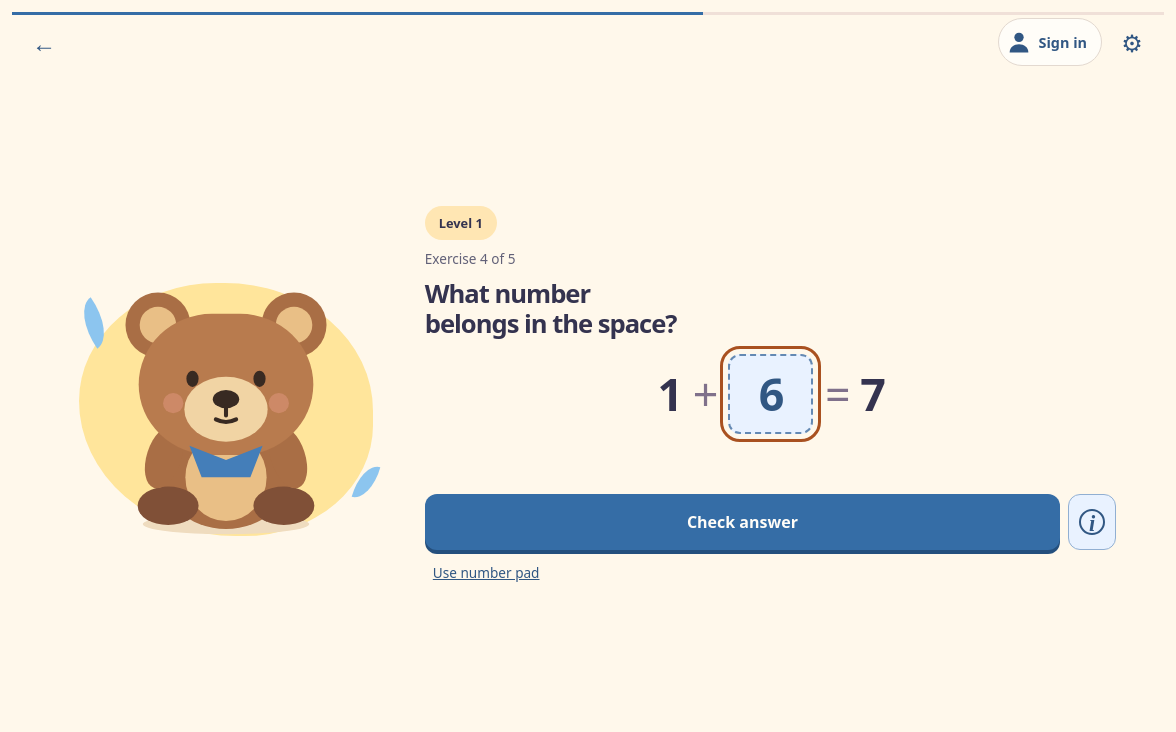
Test: maths: total and average for 5, 10 and 20 › 5 exercises
This screenshot has width=1176, height=732.
Earlier steps of the test are not shown.
Click the button "Check answer" at (742, 522), box [425,494,1060,550]
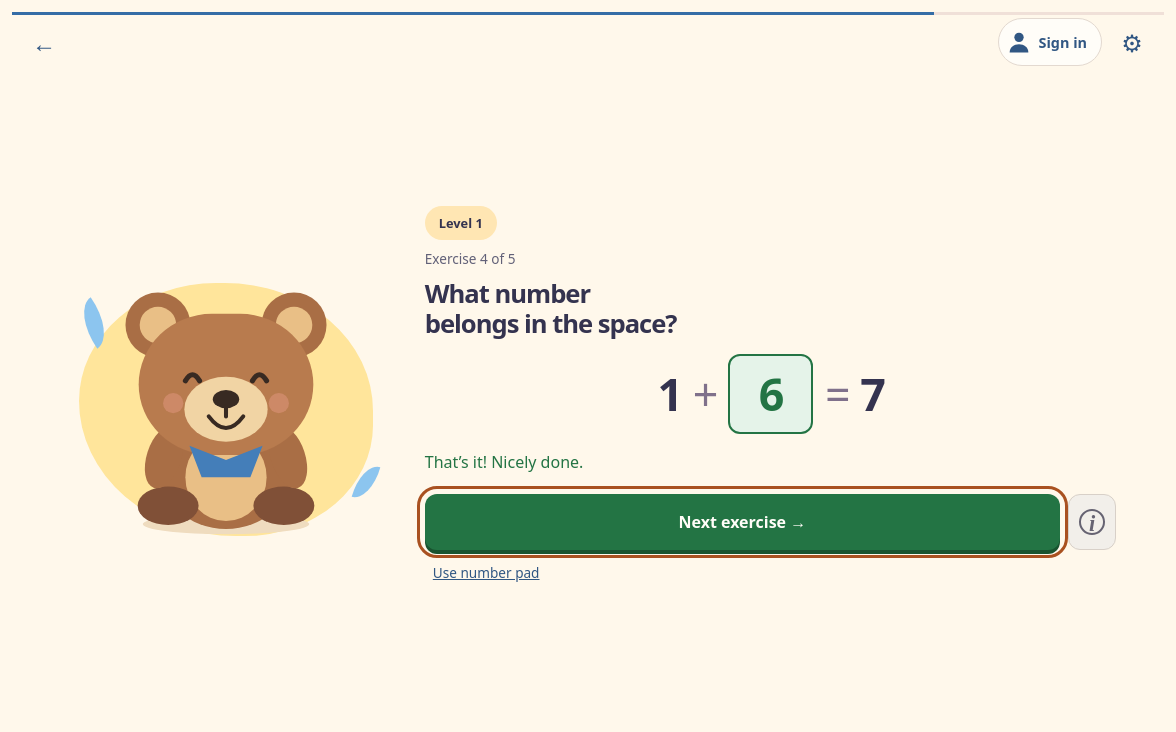
Click the button "Next exercise →" at (742, 522), box [425,494,1060,550]
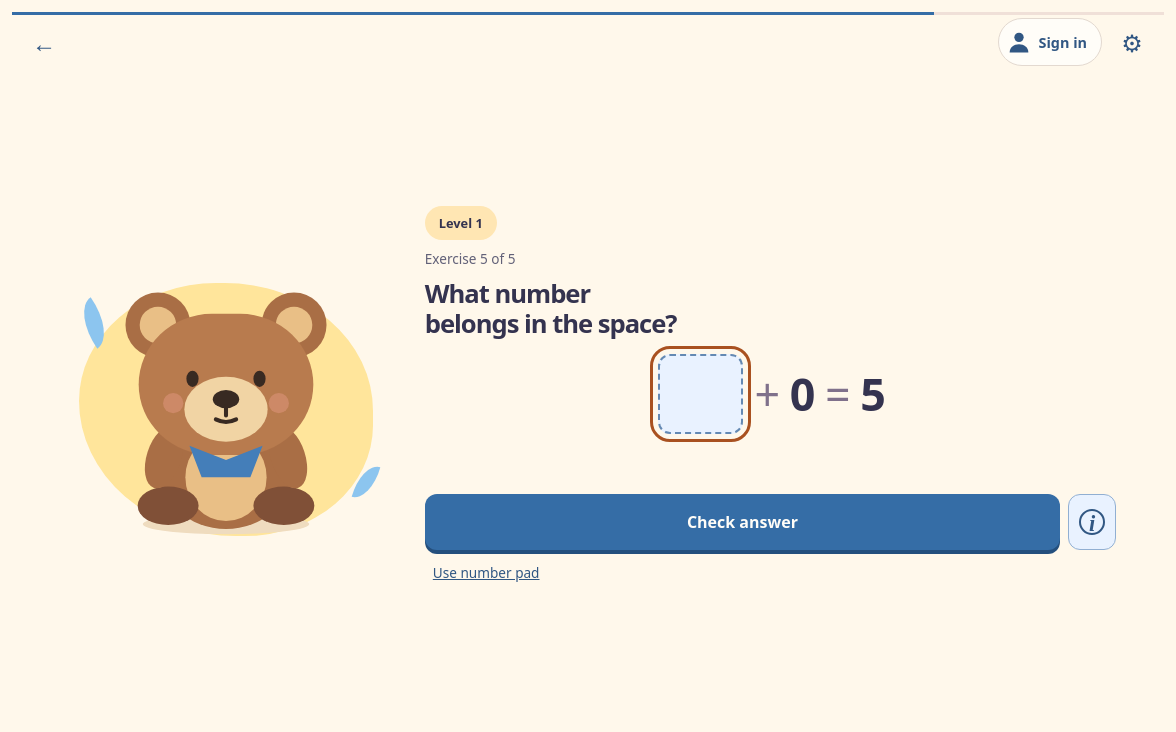
Type "5" into the field at (700, 394), box [658,354,743,434]
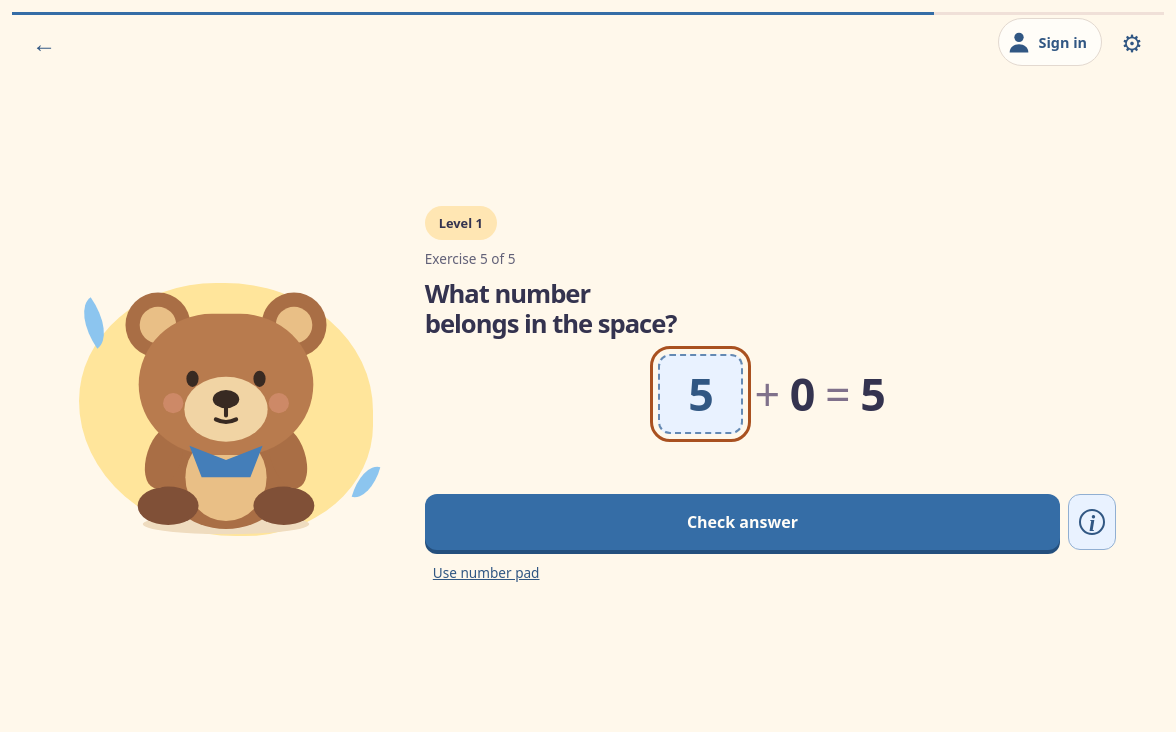
Click the button "Check answer" at (742, 522), box [425,494,1060,550]
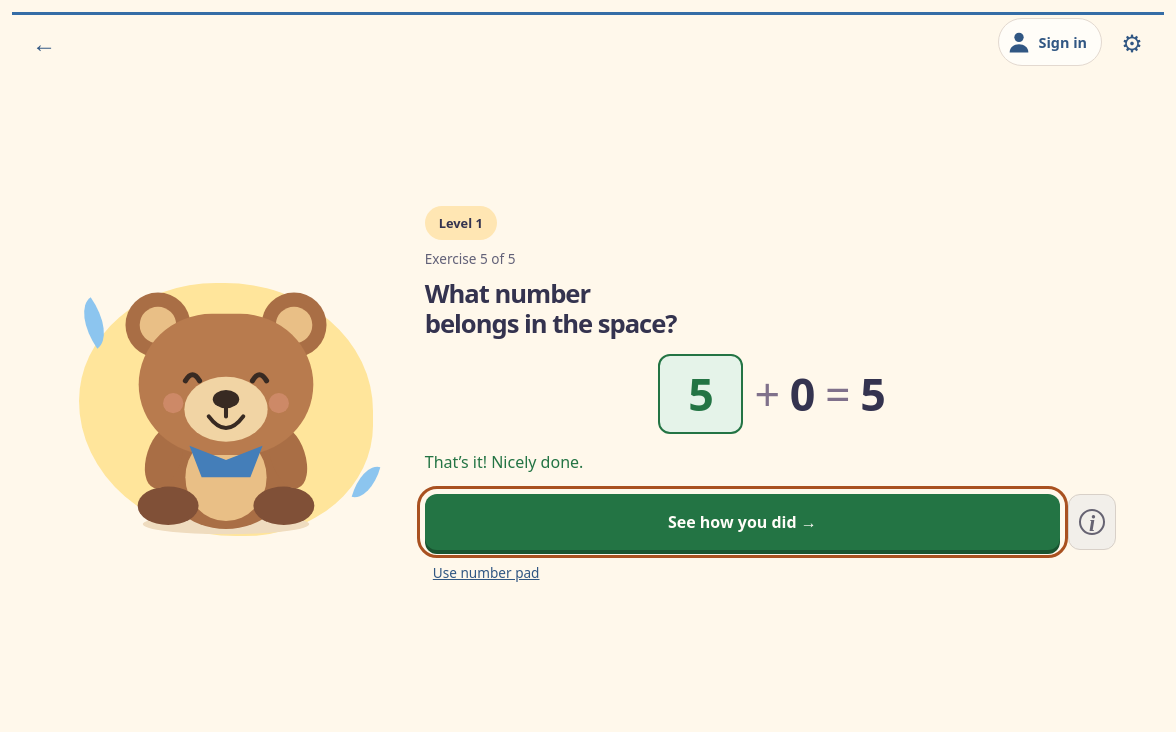
Click the button "See how you did →" at (742, 522), box [425,494,1060,550]
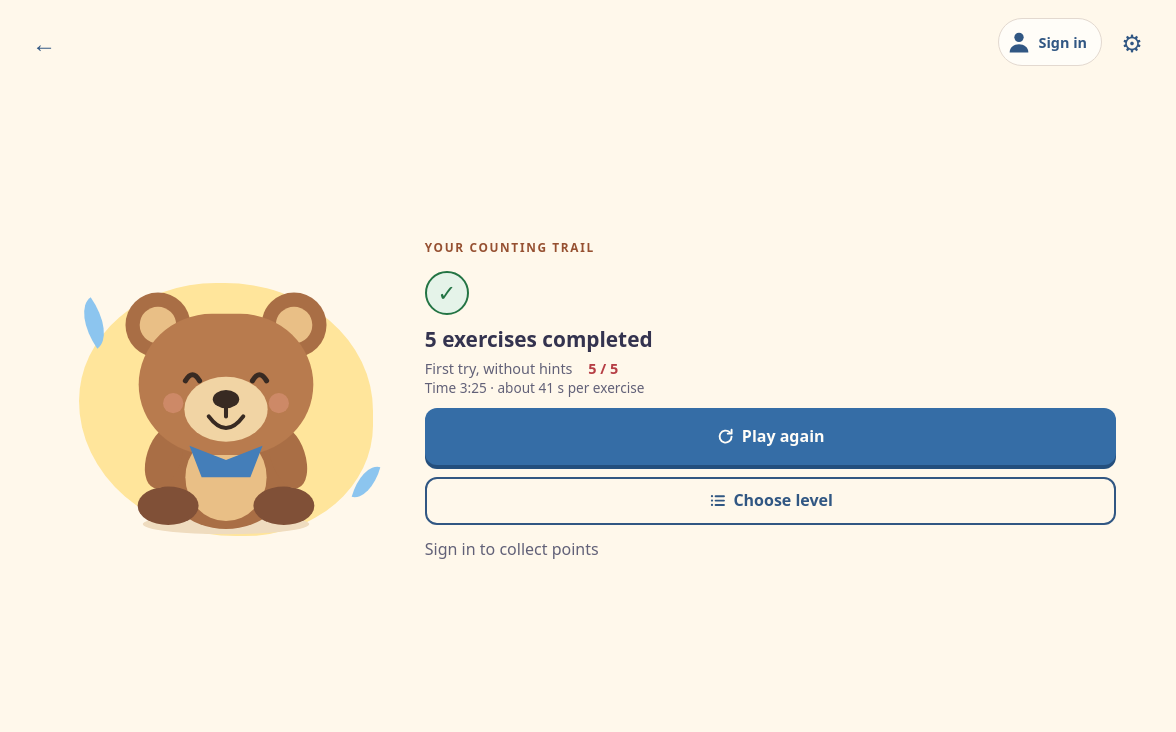
Check: the element with class "lesson-time" reads "Time 3:25 · about 41 s per exercise", box [425,378,644,397]
Check: the text "Time 3:25 · about 41 s per exercise" is shown, box [425,378,644,397]
